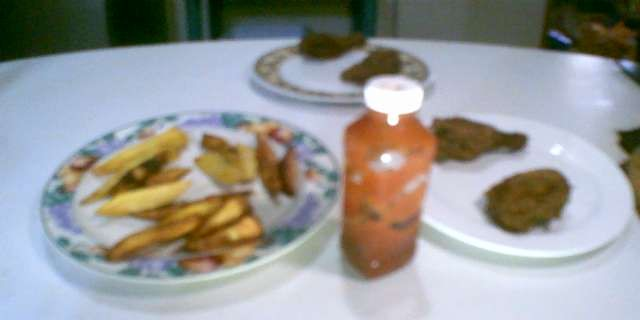chicken: (474, 163, 575, 239), (428, 110, 534, 169), (292, 22, 371, 63), (337, 47, 403, 85)
ketchup_bottle: (331, 73, 447, 286)
potatoe_fries: (79, 123, 297, 274)
